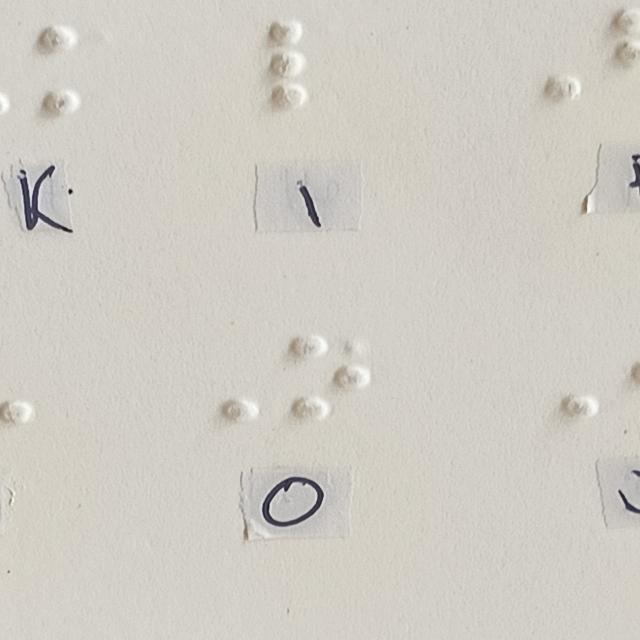capital_sign: (185, 336, 260, 423)
letter_O: (295, 336, 370, 423)
letter_k: (37, 27, 113, 114)
letter_l: (271, 21, 346, 107)
